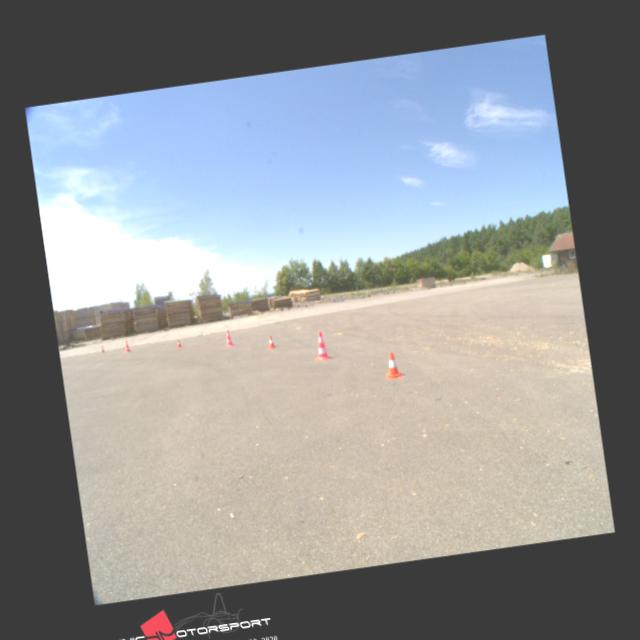large_orange_cone: (311, 330, 330, 360), (224, 330, 234, 346), (124, 339, 130, 353)
orange_cone: (382, 352, 402, 378), (267, 335, 275, 348), (175, 339, 182, 348), (100, 345, 105, 353)
